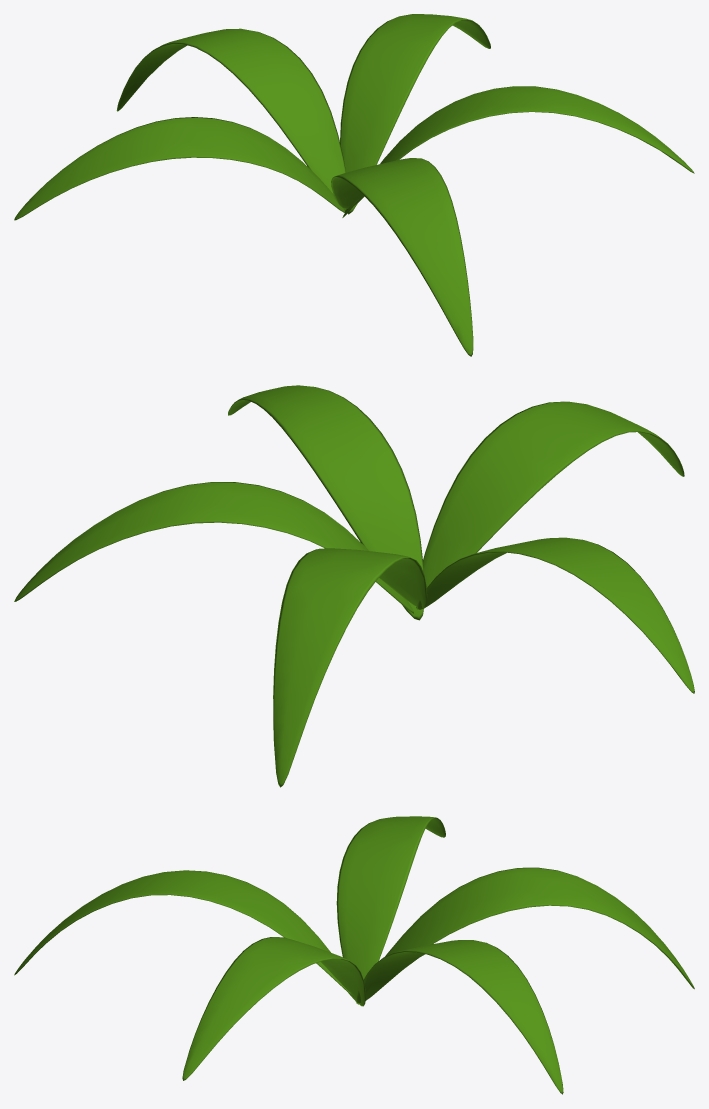
Rendered from Beach_Grass_2.glb.
The picture shows the model from 3 angles, top to bottom: view 1: azimuth 30°, elevation 25°; view 2: azimuth 150°, elevation 25°; view 3: azimuth 270°, elevation 25°; orthographic projection. The views are drawn at different scales.
Parts seen in each view (by area): view 1: Object_6; view 2: Object_6; view 3: Object_6.
Boxes of the visible parts, box(x1,y1,x2,y2) form: Object_6: box(14, 14, 694, 356); Object_6: box(14, 385, 694, 787); Object_6: box(14, 816, 694, 1094).
Size of the model in its own units: 16.39 by 3.7 by 18.45.
